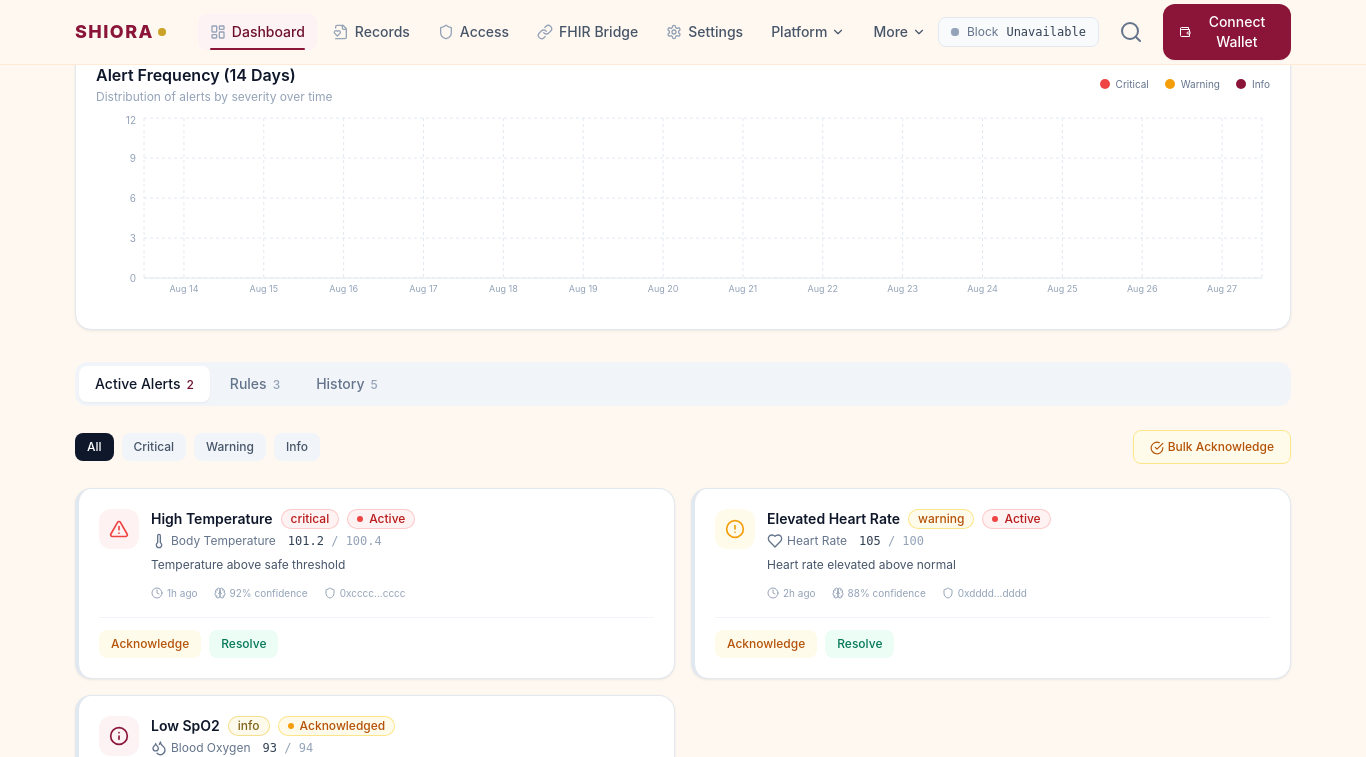
Test: AlertsPage › switches to Rules tab and shows Create Rule button
(page scrolled)
Click the tab "Rules3": (255, 384) [214,366,296,402]
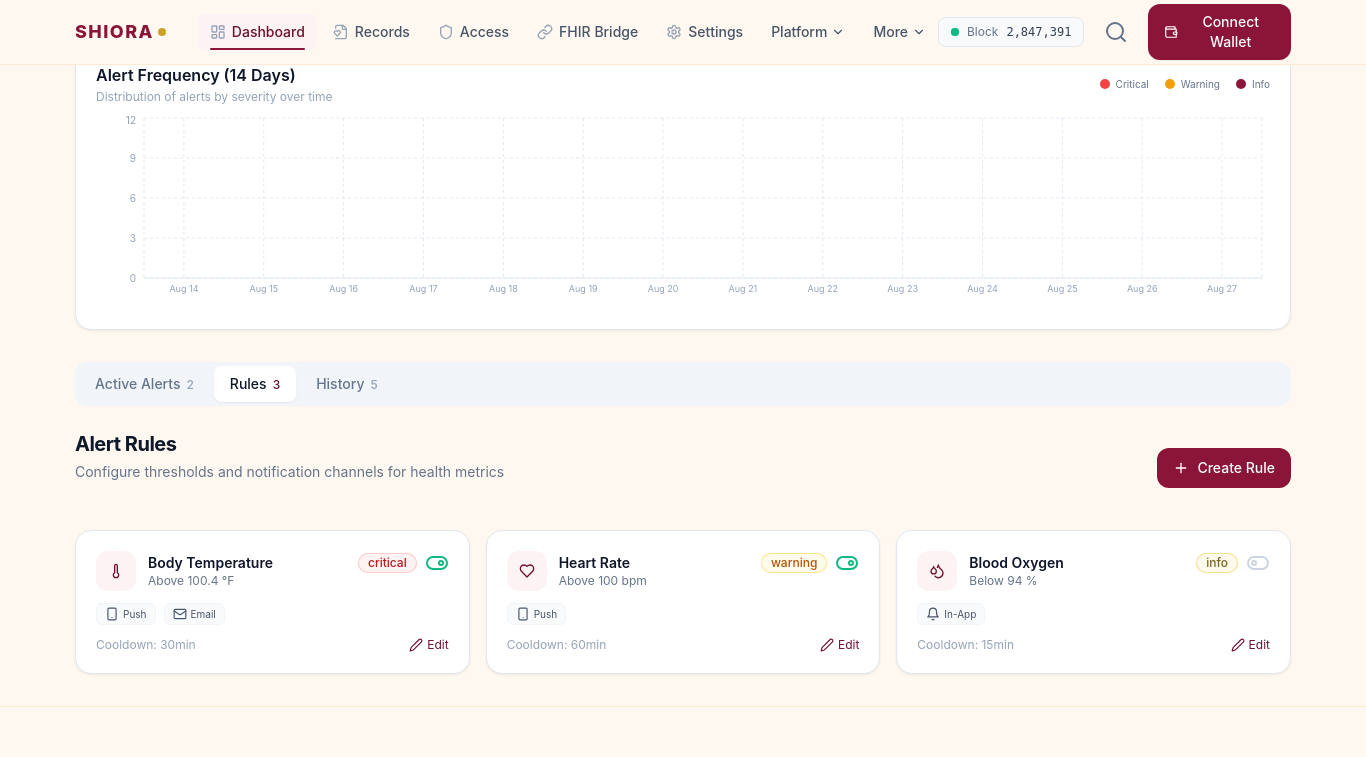
Now the heading "Alert Rules" is shown, box [75,432,176,456]
Now the button "Create Rule" is shown, box [1157,448,1291,488]
